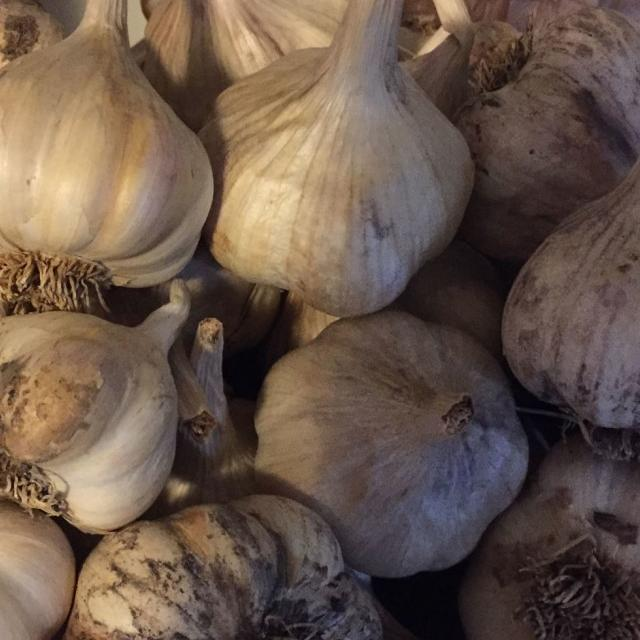garlic: (215, 34, 471, 314), (0, 19, 207, 291), (280, 312, 506, 541), (498, 152, 640, 433), (0, 307, 178, 513), (501, 452, 640, 640)
